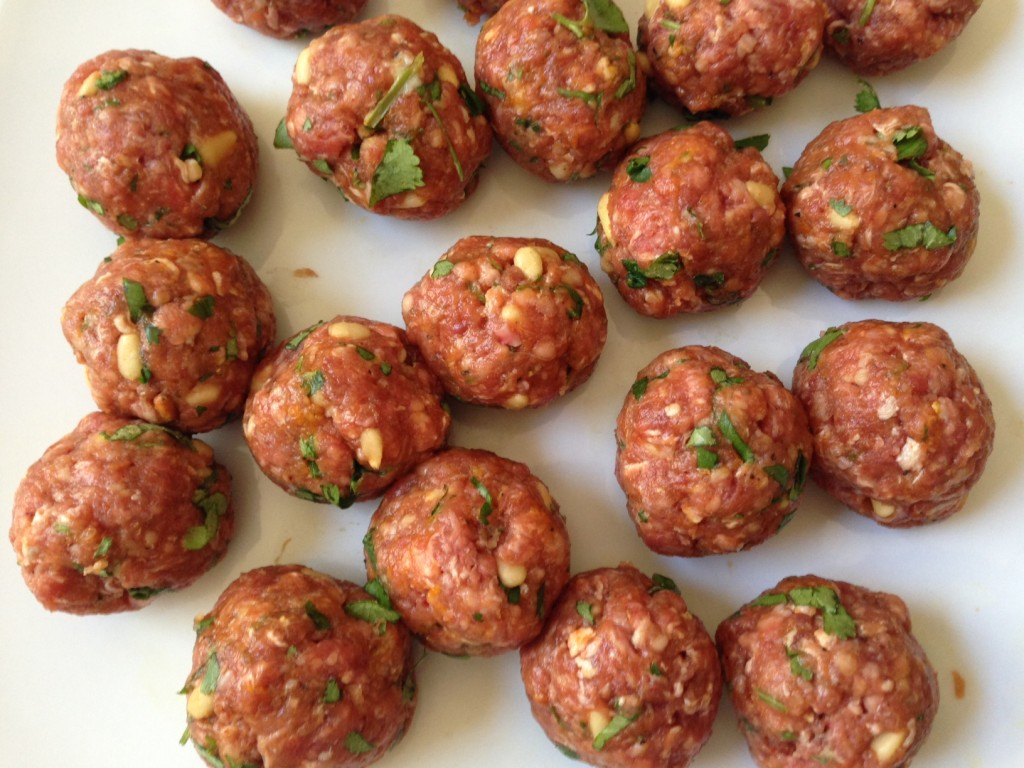ground_beef: (31, 62, 260, 655), (348, 444, 597, 682), (211, 301, 483, 497), (599, 340, 803, 562), (785, 84, 980, 299), (600, 131, 800, 327), (407, 233, 607, 412), (814, 312, 989, 511)
